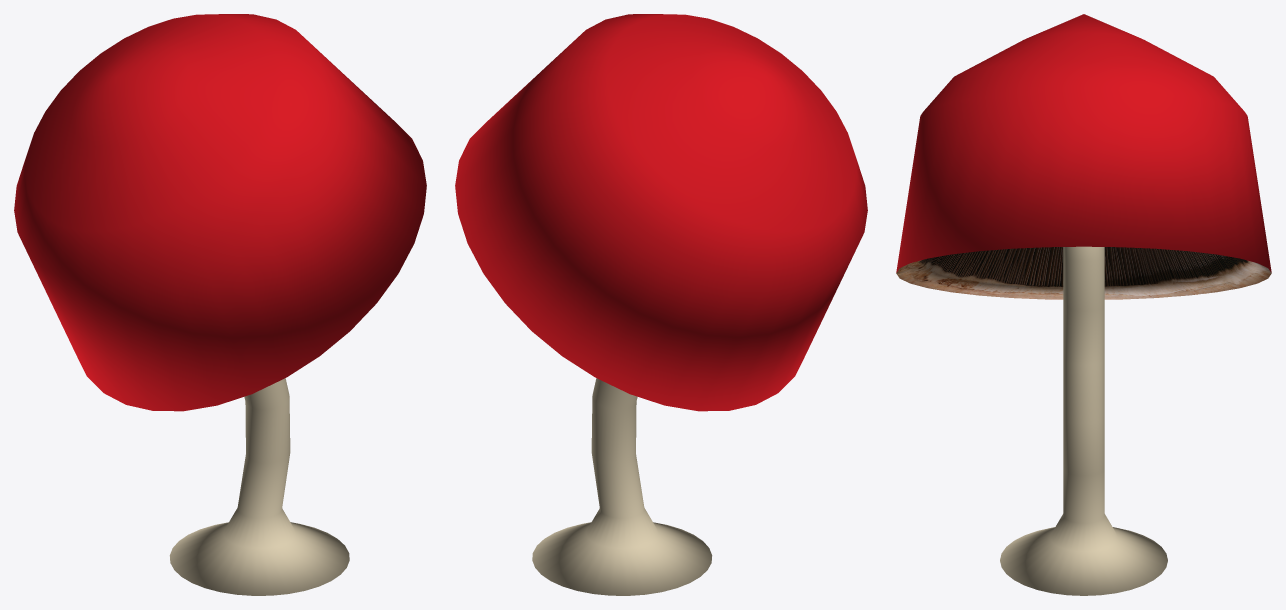
File: champi52.fbx
The picture shows the model from 3 angles, left to right: view 1: azimuth 30°, elevation 25°; view 2: azimuth 150°, elevation 25°; view 3: azimuth 270°, elevation 25°; orthographic projection. The views are drawn at different scales.
Visible parts, largest first — view 1: Cylinder; view 2: Cylinder; view 3: Cylinder.
Boxes of the visible parts, x1,y1,x2,y2 form: Cylinder: (14, 14, 426, 595); Cylinder: (455, 14, 867, 595); Cylinder: (896, 14, 1271, 595).
Size of the model in its own units: 90.69 by 130 by 89.35.
